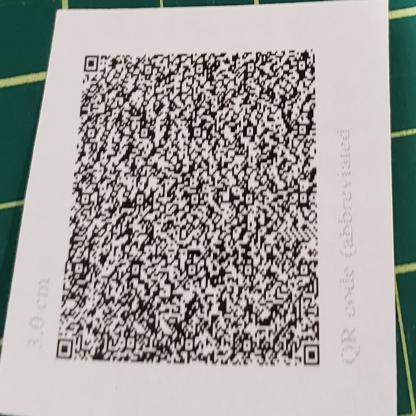qr: (53, 47, 326, 371)
